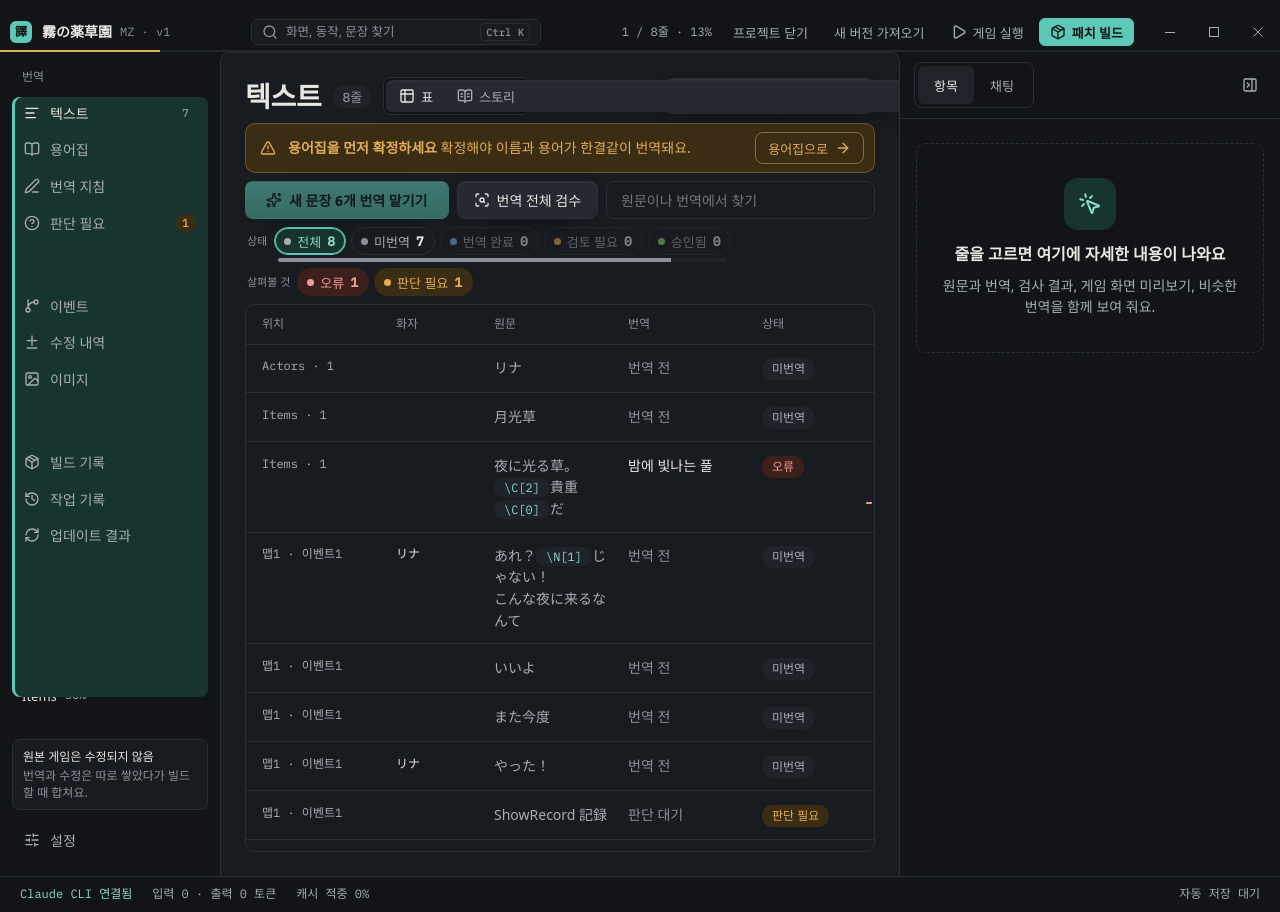
Scenario: 충돌도, 바뀐 그림도, 새 묶음도 없으면 그 줄은 없다
Check: the text "霧の薬草園" is shown, box [42,21,112,43]
Click the button "업데이트 결과" at {"x": 110, "y": 535}, box [12,519,208,552]
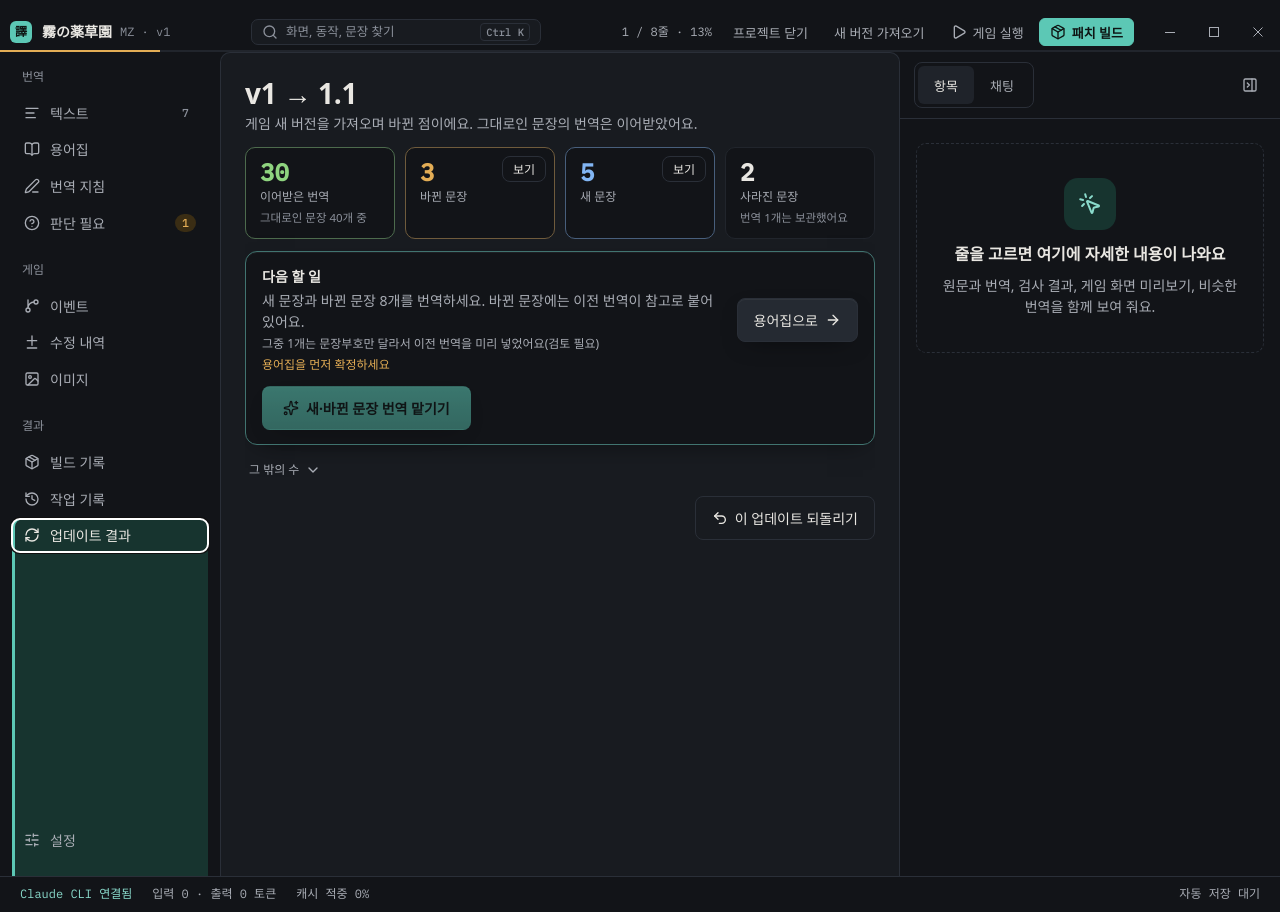
Check: the heading "v1 → 1.1" is shown, box [245,77,357,109]
Check: the button "이 업데이트 되돌리기" is shown, box [695,496,875,540]
